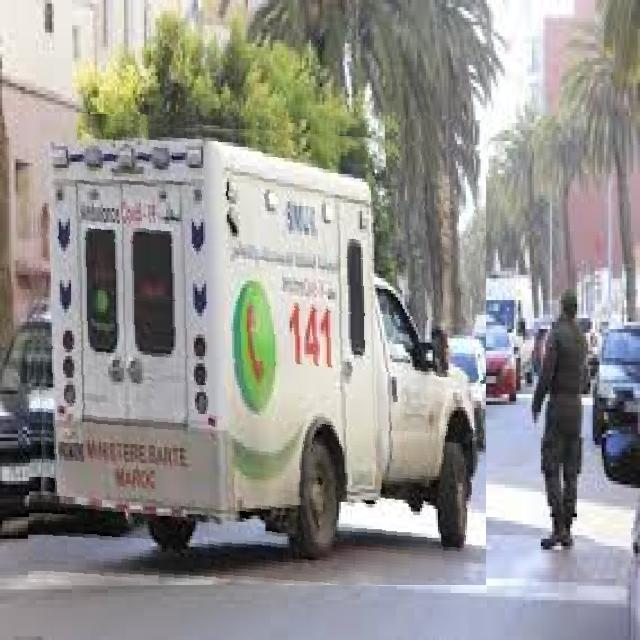ambulance: (29, 115, 486, 585)
